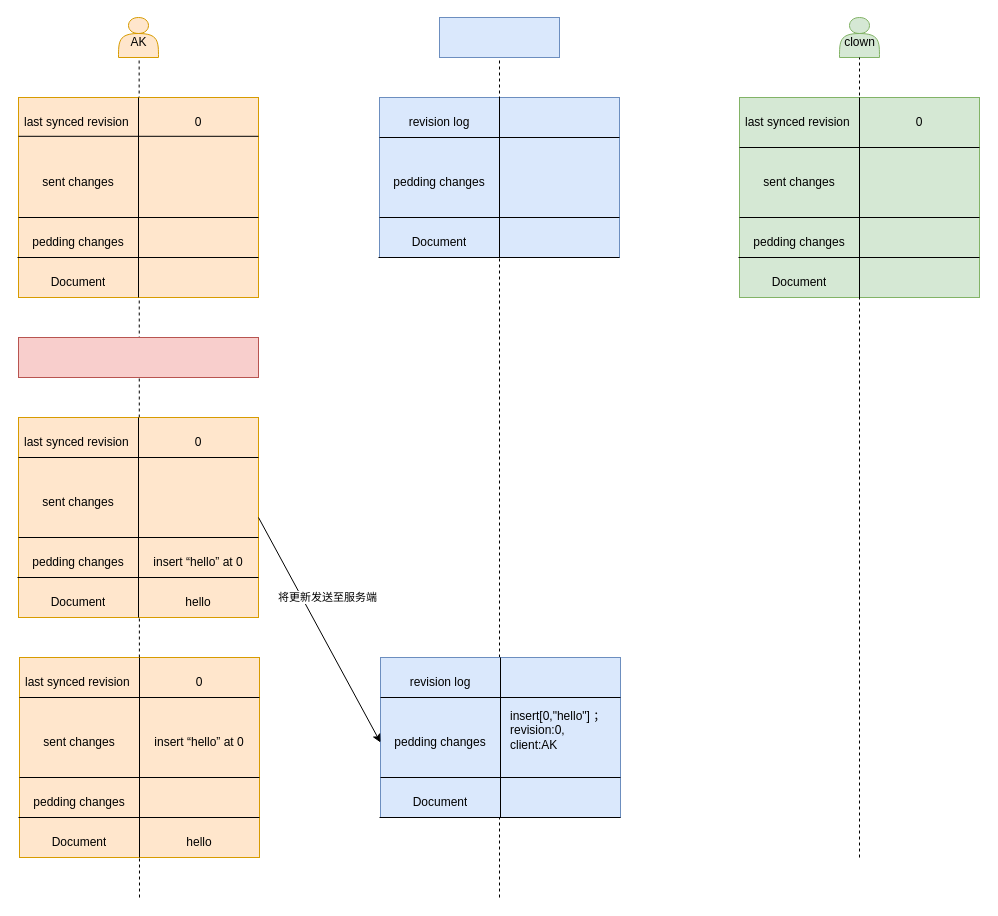
The diagram is 998 pixels wide and 916 high, and some of its shapes have lost their labels. The box of each missing label's shape, as (x1, y1, x2, y2) in pixels:
ins[0,"hello"] 在0的位置插入hello字符: (18, 336, 258, 378)
serve服务端: (438, 16, 560, 58)
